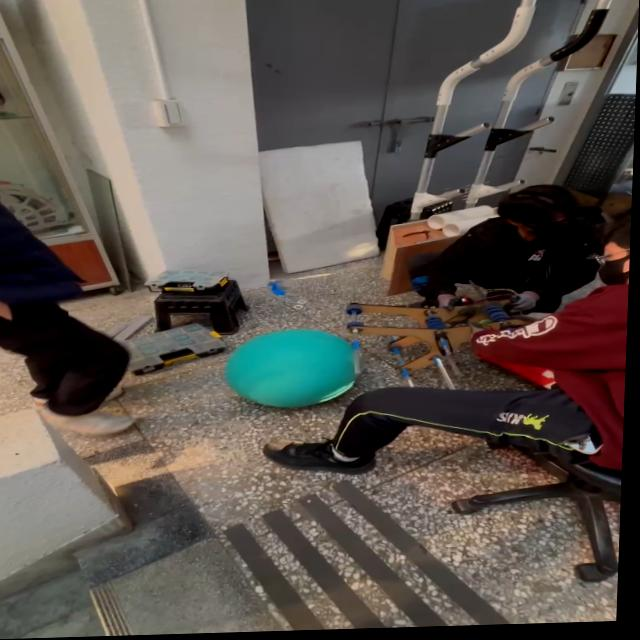ALGAE: (221, 326, 362, 411)
